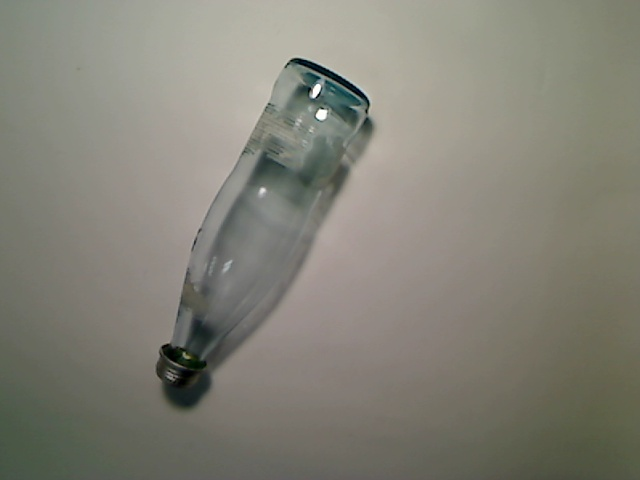bottle: (156, 57, 370, 388)
